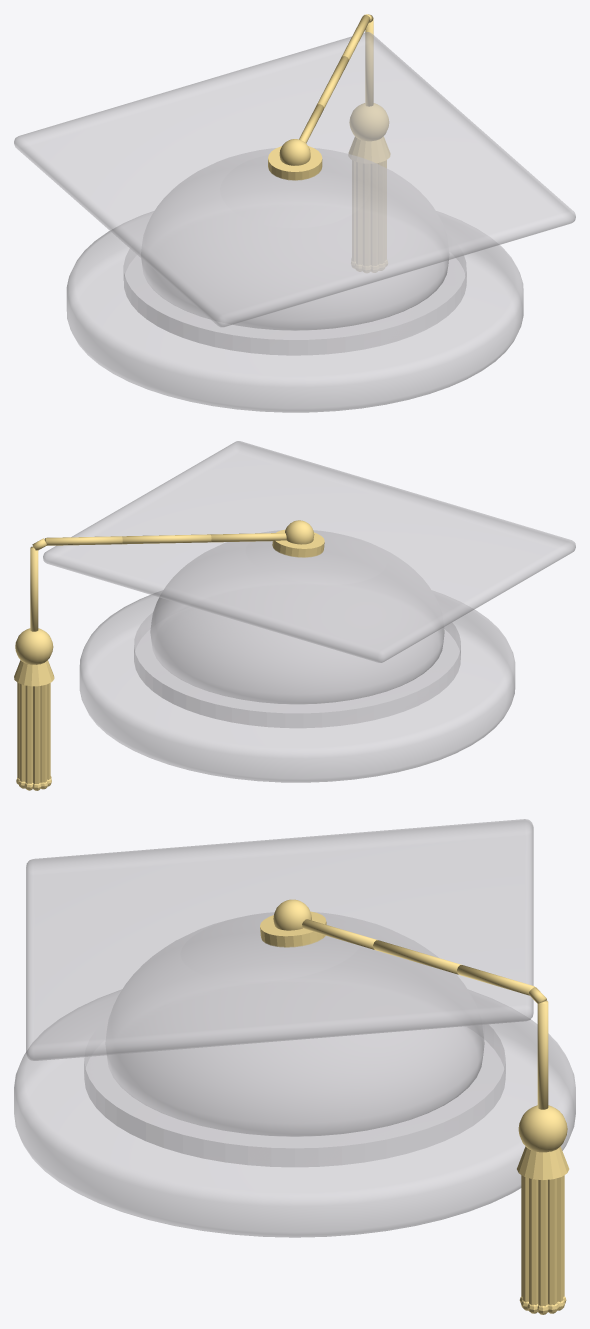
File: gradcap.glb
The picture shows the model from 3 angles, top to bottom: view 1: azimuth 30°, elevation 25°; view 2: azimuth 150°, elevation 25°; view 3: azimuth 270°, elevation 25°; orthographic projection. The views are drawn at different scales.
Parts seen in each view (by area): view 1: GradCap; view 2: GradCap; view 3: GradCap.
Part boxes in pixels (x1,y1,x2,y2): GradCap: (14, 14, 575, 412); GradCap: (14, 441, 575, 790); GradCap: (14, 819, 575, 1314).
Size of the model in its own units: 1.6 by 0.9939 by 1.6.
